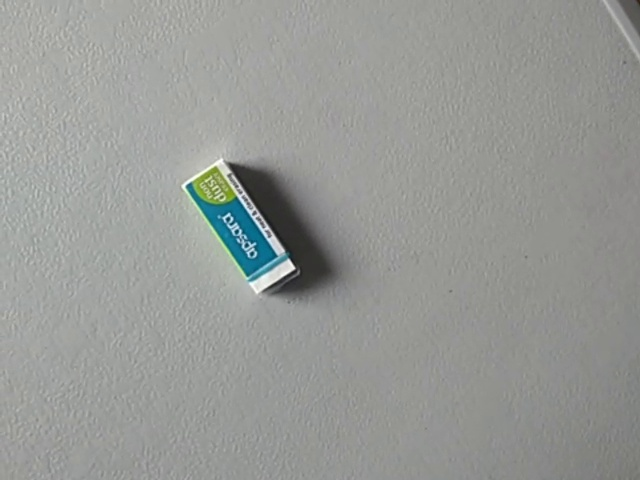Eraser: (179, 156, 300, 298)
